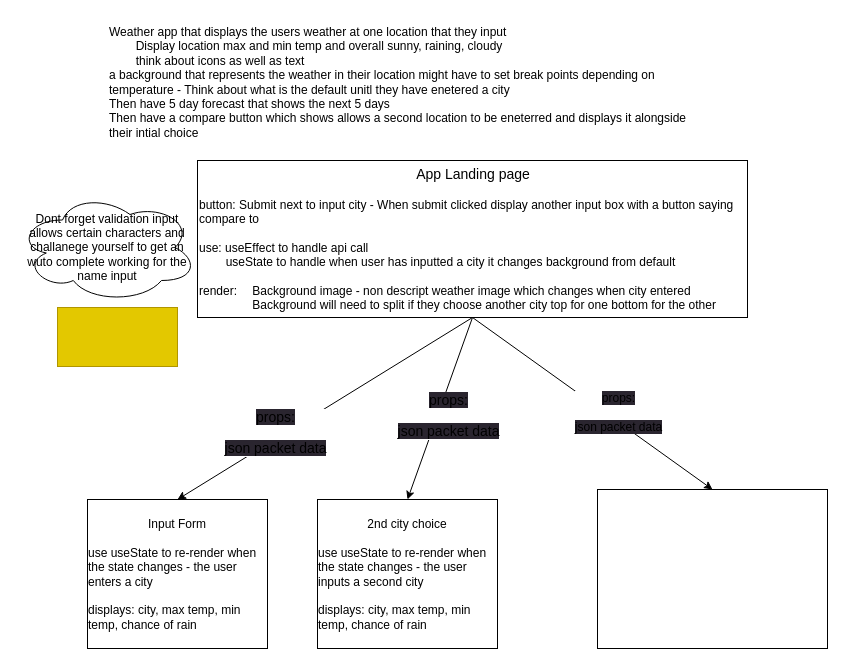
This 845x666 diagram has some shape labels left out. The shapes that lost their labels are listed below. From the top down, each one's centre as x and y in pixels, then its label:
At (117,336): "Think about can i use dispatch as a prop".
At (712,568): "Button one button resused wherever i want to get Weather data".
